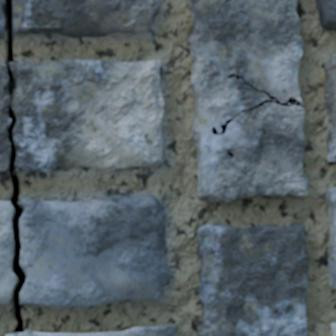brick: (188, 0, 306, 203), (197, 223, 307, 335), (5, 326, 175, 335), (325, 54, 335, 160), (326, 188, 335, 288), (316, 0, 335, 29), (332, 324, 335, 335)
broken_brick: (11, 59, 164, 172), (19, 194, 170, 307), (14, 0, 160, 38), (0, 200, 15, 304), (0, 64, 10, 173), (0, 11, 4, 39)
crack: (0, 0, 29, 333), (210, 69, 304, 135)
